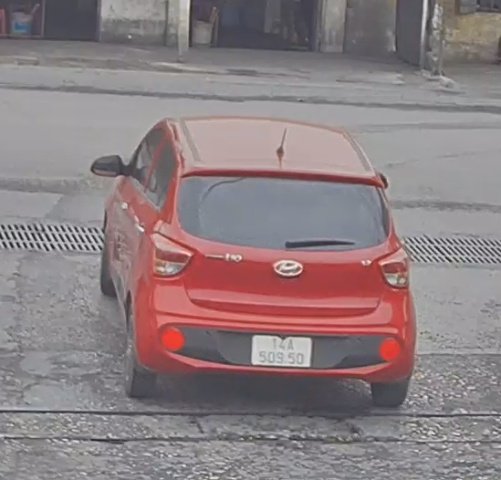vehicle plate: (246, 328, 313, 370)
